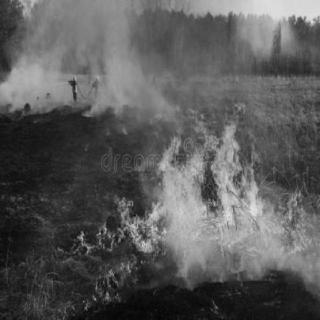Fire: (118, 103, 312, 259), (94, 258, 134, 302), (76, 218, 116, 256)
Smoke: (1, 51, 58, 111), (102, 42, 158, 102), (66, 1, 124, 41), (243, 2, 276, 52)
